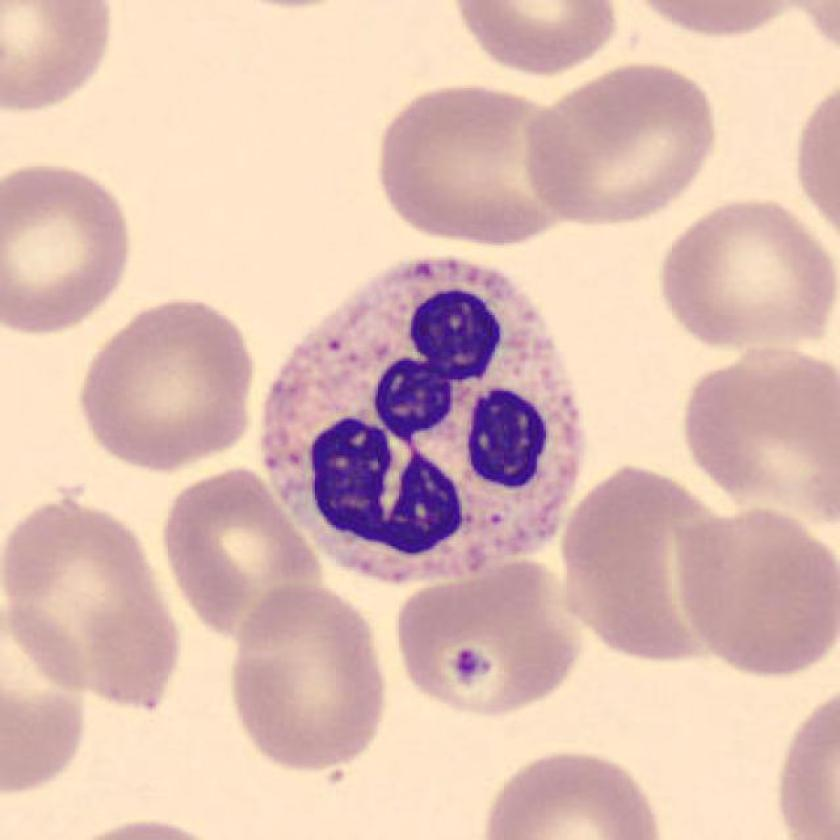neutrophil: (263, 258, 580, 575)
